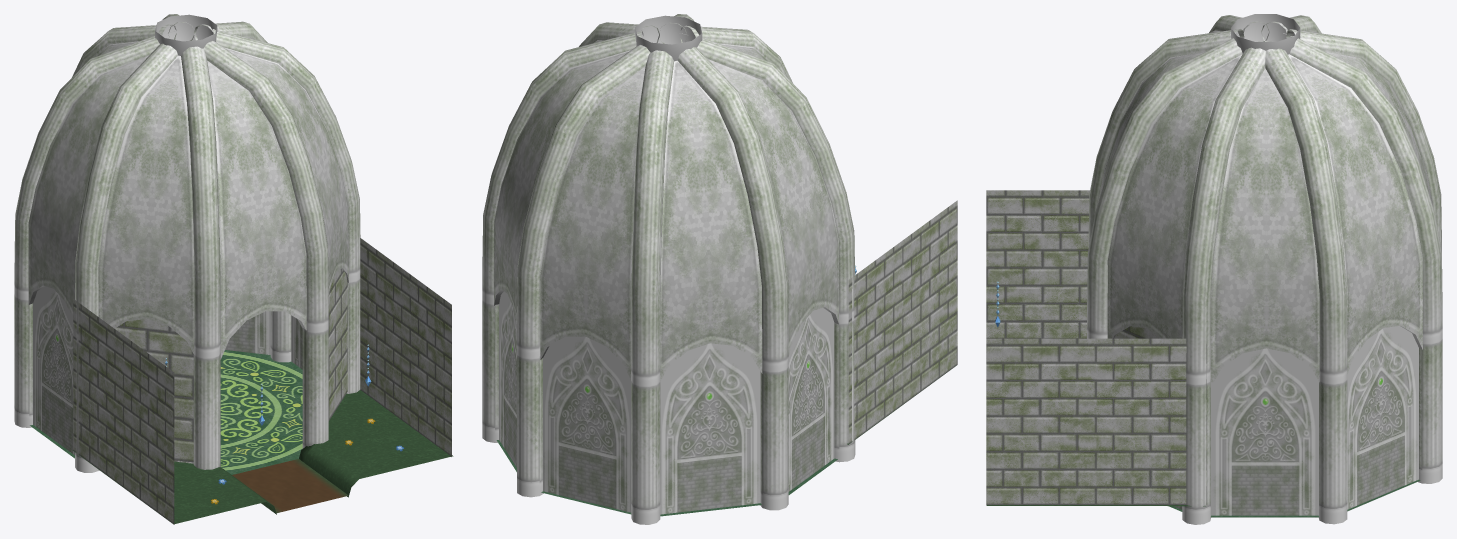
The model's file is joydome.fbx.
3 views of the same model, side by side, from view 1: azimuth 30°, elevation 25°; view 2: azimuth 150°, elevation 25°; view 3: azimuth 270°, elevation 25° (orthographic). The views are drawn at different scales.
Parts seen in each view (by area): view 1: joydome; view 2: joydome; view 3: joydome.
Part boxes in pixels (bbox=[...]): joydome: bbox=[14, 14, 453, 524]; joydome: bbox=[482, 14, 957, 524]; joydome: bbox=[986, 14, 1442, 524].
Bounding box in the file's own units: 1935 × 2529 × 2482.
